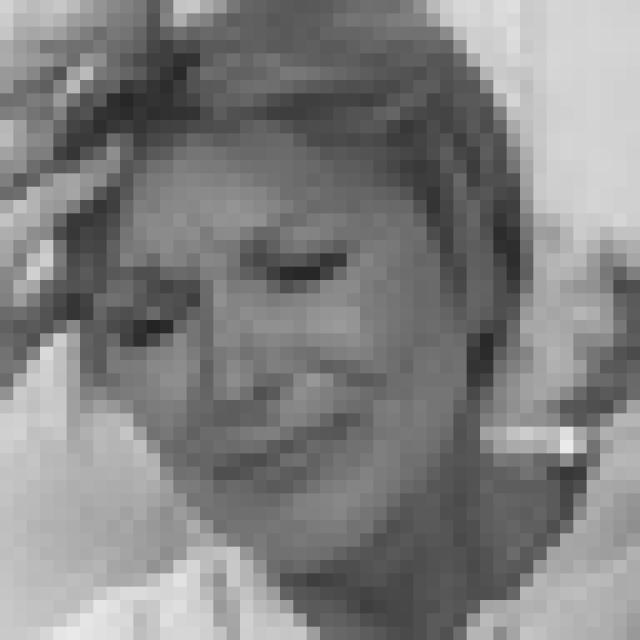sad: (94, 183, 417, 514)
